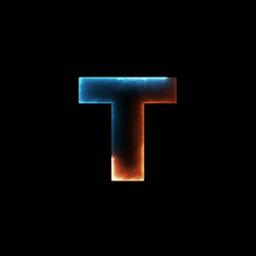t: (74, 70, 188, 188)
